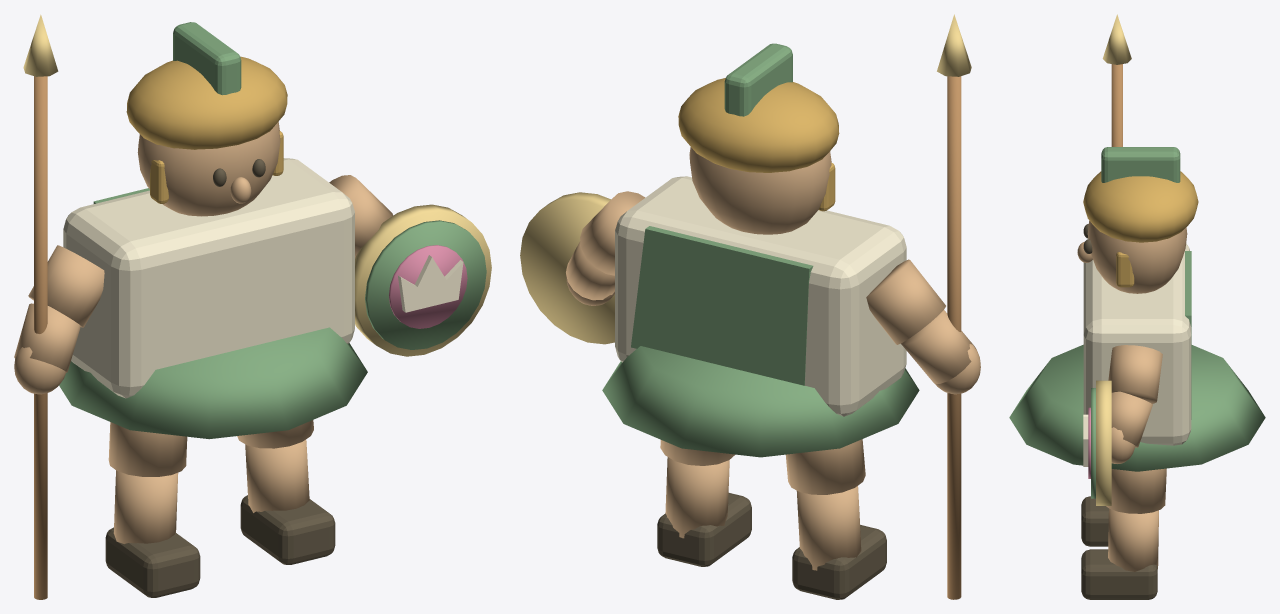
Rendered from broad.glb.
3 renders of one model, left to right at view 1: azimuth 30°, elevation 25°; view 2: azimuth 150°, elevation 25°; view 3: azimuth 270°, elevation 25°, orthographic. The views are drawn at different scales.
Parts seen in each view (by area): view 1: body, skirt, helmet, shield_face, head, spear, shield, foot.-1, foot.1, shin.-1, shin.1, upper_arm.-1 (+10 smaller); view 2: body, cape, skirt, helmet, shield, head, spear, shin.-1, shin.1, upper_arm.-1, foot.-1, foot.1 (+8 smaller); view 3: skirt, body, helmet, head, foot.1, shin.1, crest, upper_arm.1, thigh.1, shield, forearm.1, foot.-1 (+6 smaller).
Part boxes in pixels (<box>): body: <box>63,158,354,398</box>; skirt: <box>59,327,367,439</box>; helmet: <box>126,56,287,149</box>; shield_face: <box>365,220,486,349</box>; head: <box>137,122,280,216</box>; spear: <box>34,76,47,599</box>; shield: <box>355,204,491,356</box>; foot.-1: <box>105,527,200,597</box>; foot.1: <box>240,495,335,564</box>; shin.-1: <box>113,470,178,543</box>; shin.1: <box>245,439,309,512</box>; upper_arm.-1: <box>28,245,104,327</box>; body: <box>615,176,906,416</box>; cape: <box>631,226,813,385</box>; skirt: <box>602,346,919,457</box>; helmet: <box>678,78,839,172</box>; shield: <box>520,192,614,344</box>; head: <box>689,147,831,234</box>; spear: <box>947,76,961,599</box>; shin.-1: <box>796,486,861,570</box>; shin.1: <box>665,457,729,538</box>; upper_arm.-1: <box>866,259,945,344</box>; foot.-1: <box>792,525,886,599</box>; foot.1: <box>657,493,751,566</box>; skirt: <box>1009,344,1265,471</box>; body: <box>1083,243,1191,445</box>; helmet: <box>1083,171,1198,242</box>; head: <box>1087,221,1187,293</box>; foot.1: <box>1081,549,1157,599</box>; shin.1: <box>1108,508,1158,572</box>; crest: <box>1101,147,1180,182</box>; upper_arm.1: <box>1108,345,1162,404</box>; thigh.1: <box>1106,468,1166,513</box>; shield: <box>1096,380,1111,505</box>; forearm.1: <box>1111,391,1152,447</box>; foot.-1: <box>1081,496,1108,546</box>.
Size of the model in its own units: 1.92 by 2.35 by 1.14.
